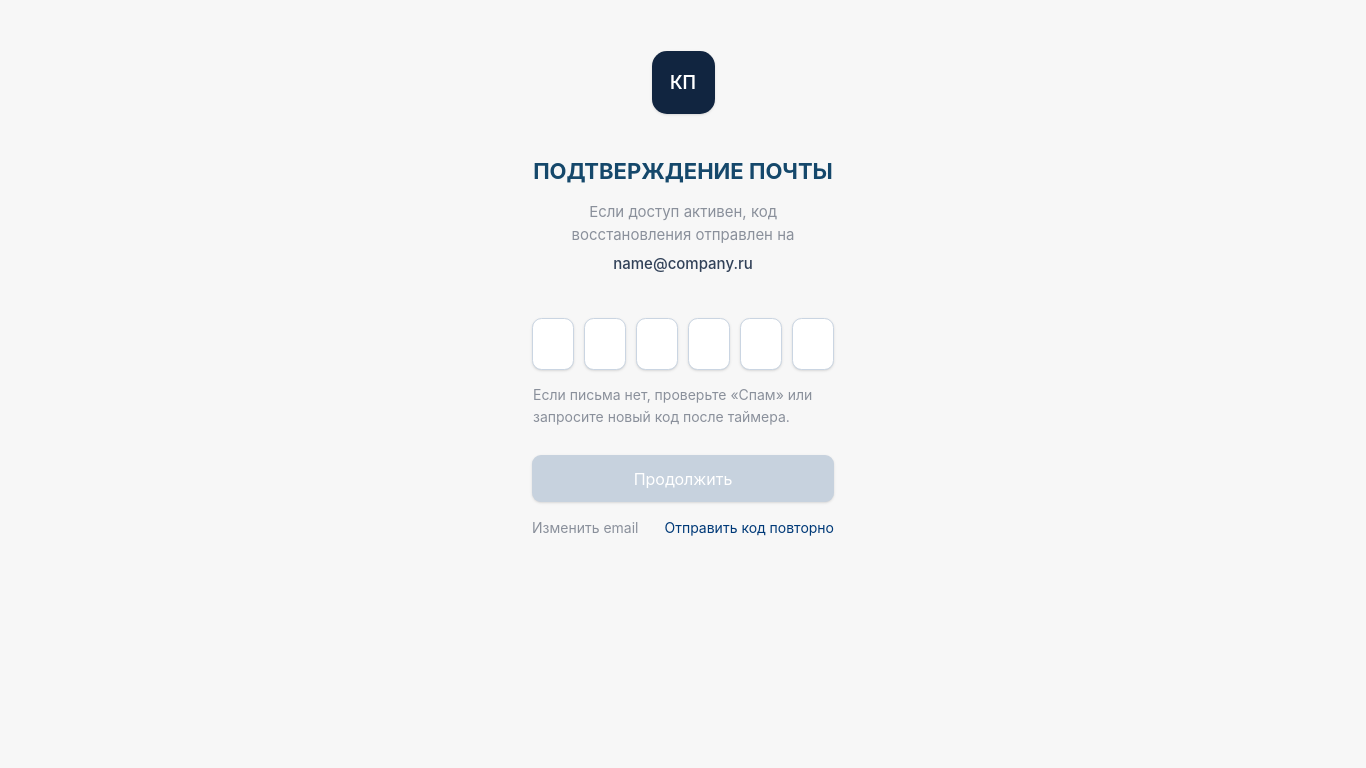
Test: Password reset pages › uses enumeration-safe copy when password reset code is resent
Click the button "Отправить код повторно" at (749, 528), box [664, 518, 834, 538]
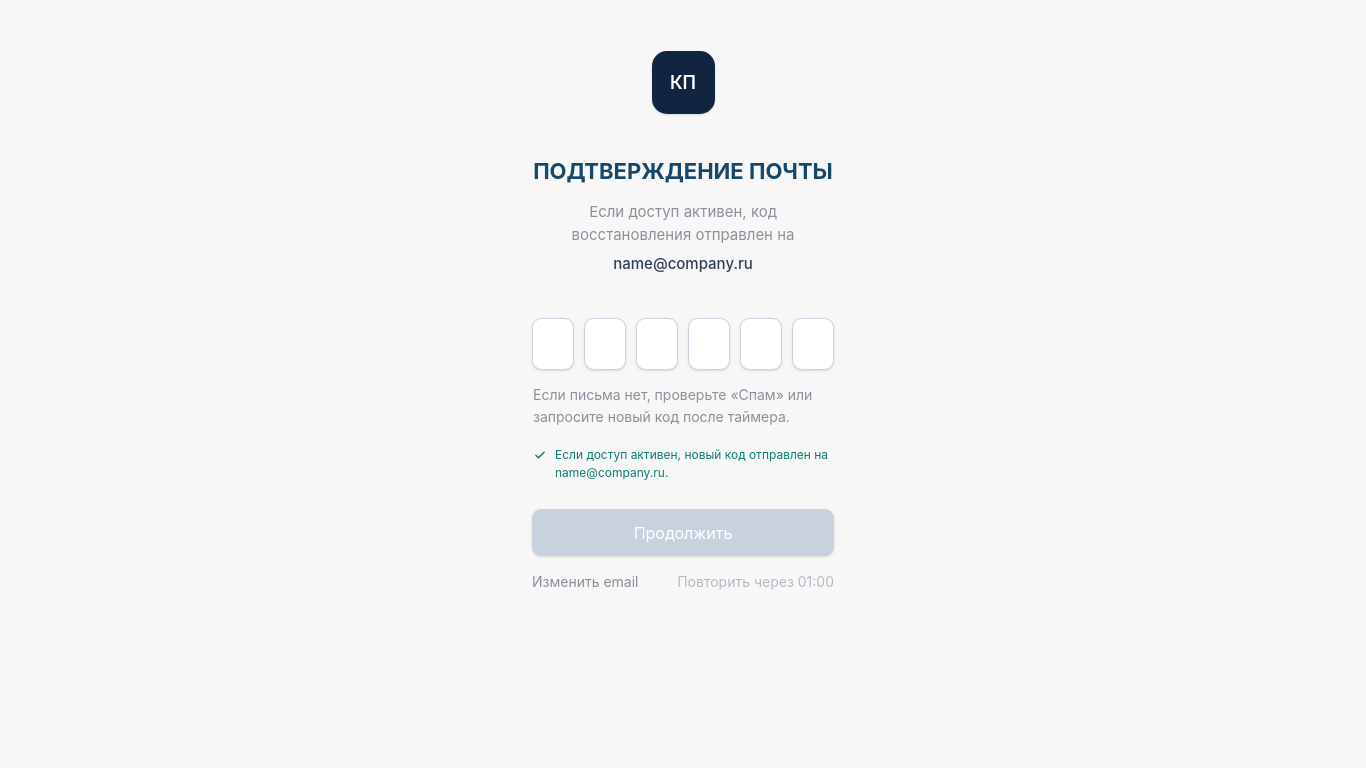
Check: the text "Если доступ активен, новый код отправлен на name@company.ru." is shown, box [555, 446, 833, 482]
